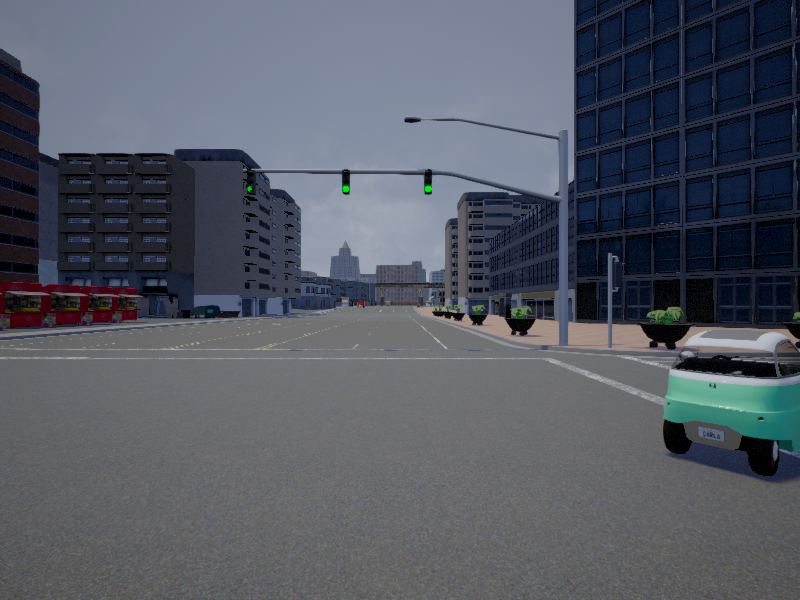Benign: (662, 327, 800, 475)
